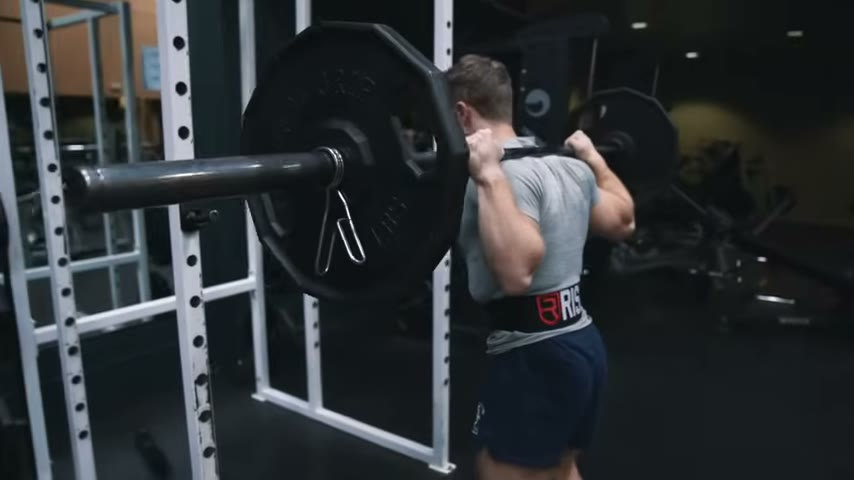barbell_plate_side: (225, 21, 328, 317), (579, 16, 686, 258)
